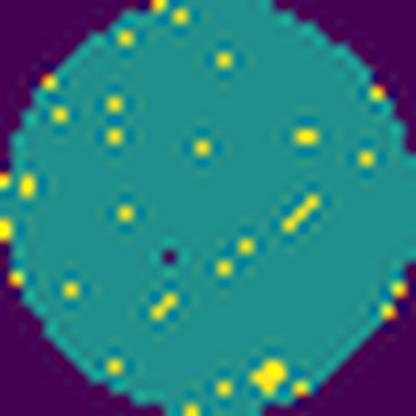Loc: (249, 358, 286, 396)
